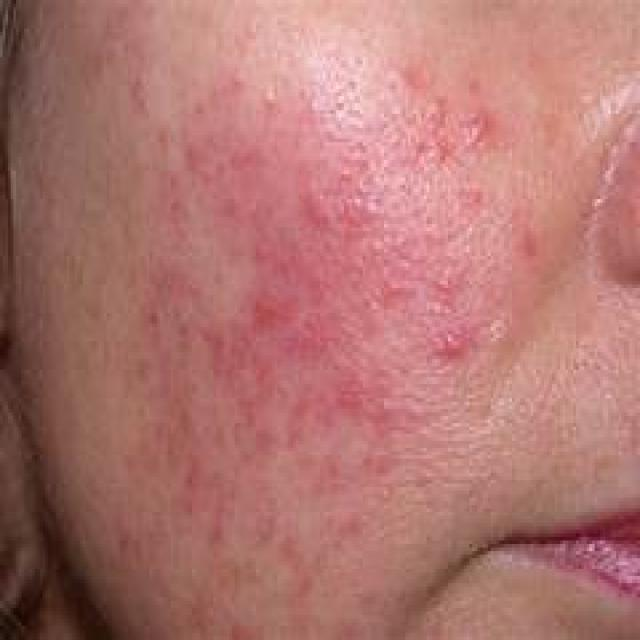Rosacea: (233, 142, 389, 438)
